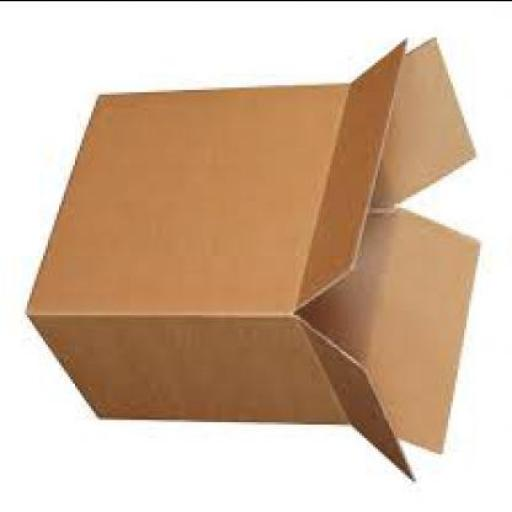cardboard: (27, 34, 483, 480)
